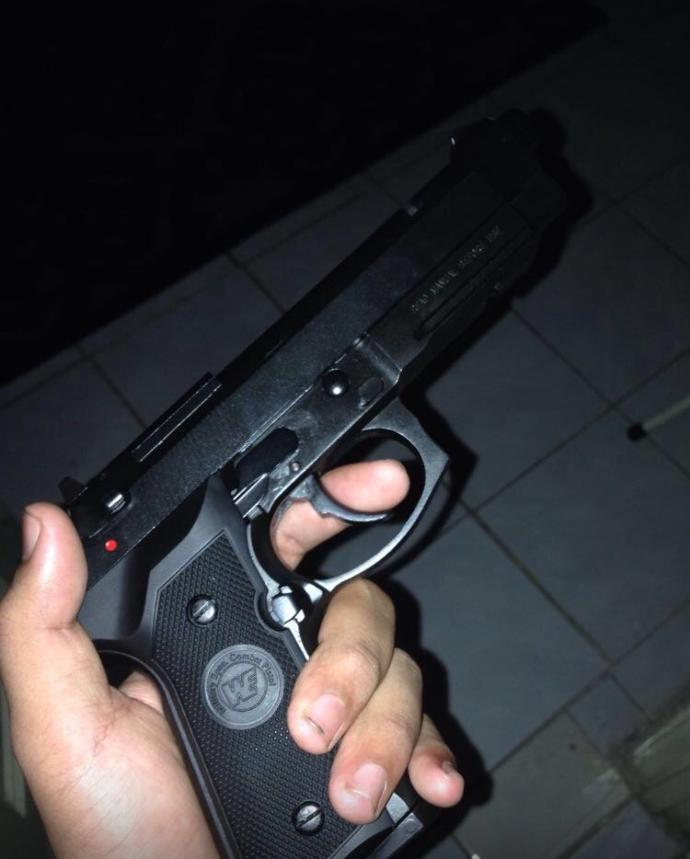pistol: (4, 26, 659, 857)
